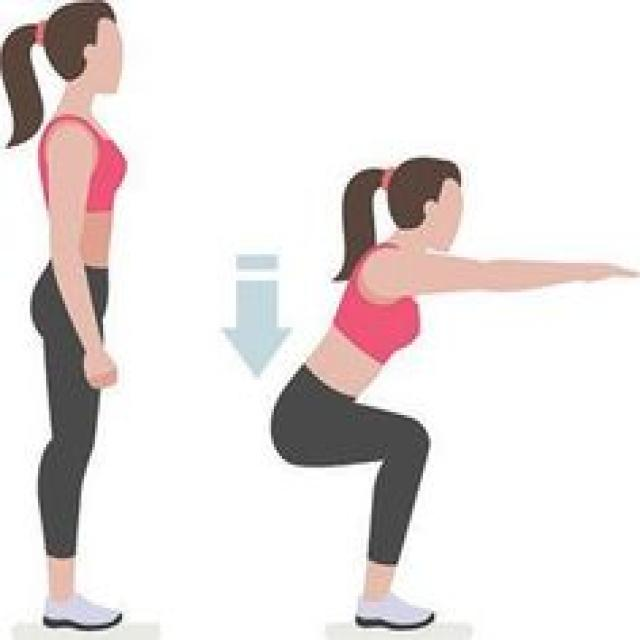squat: (263, 129, 640, 636)
